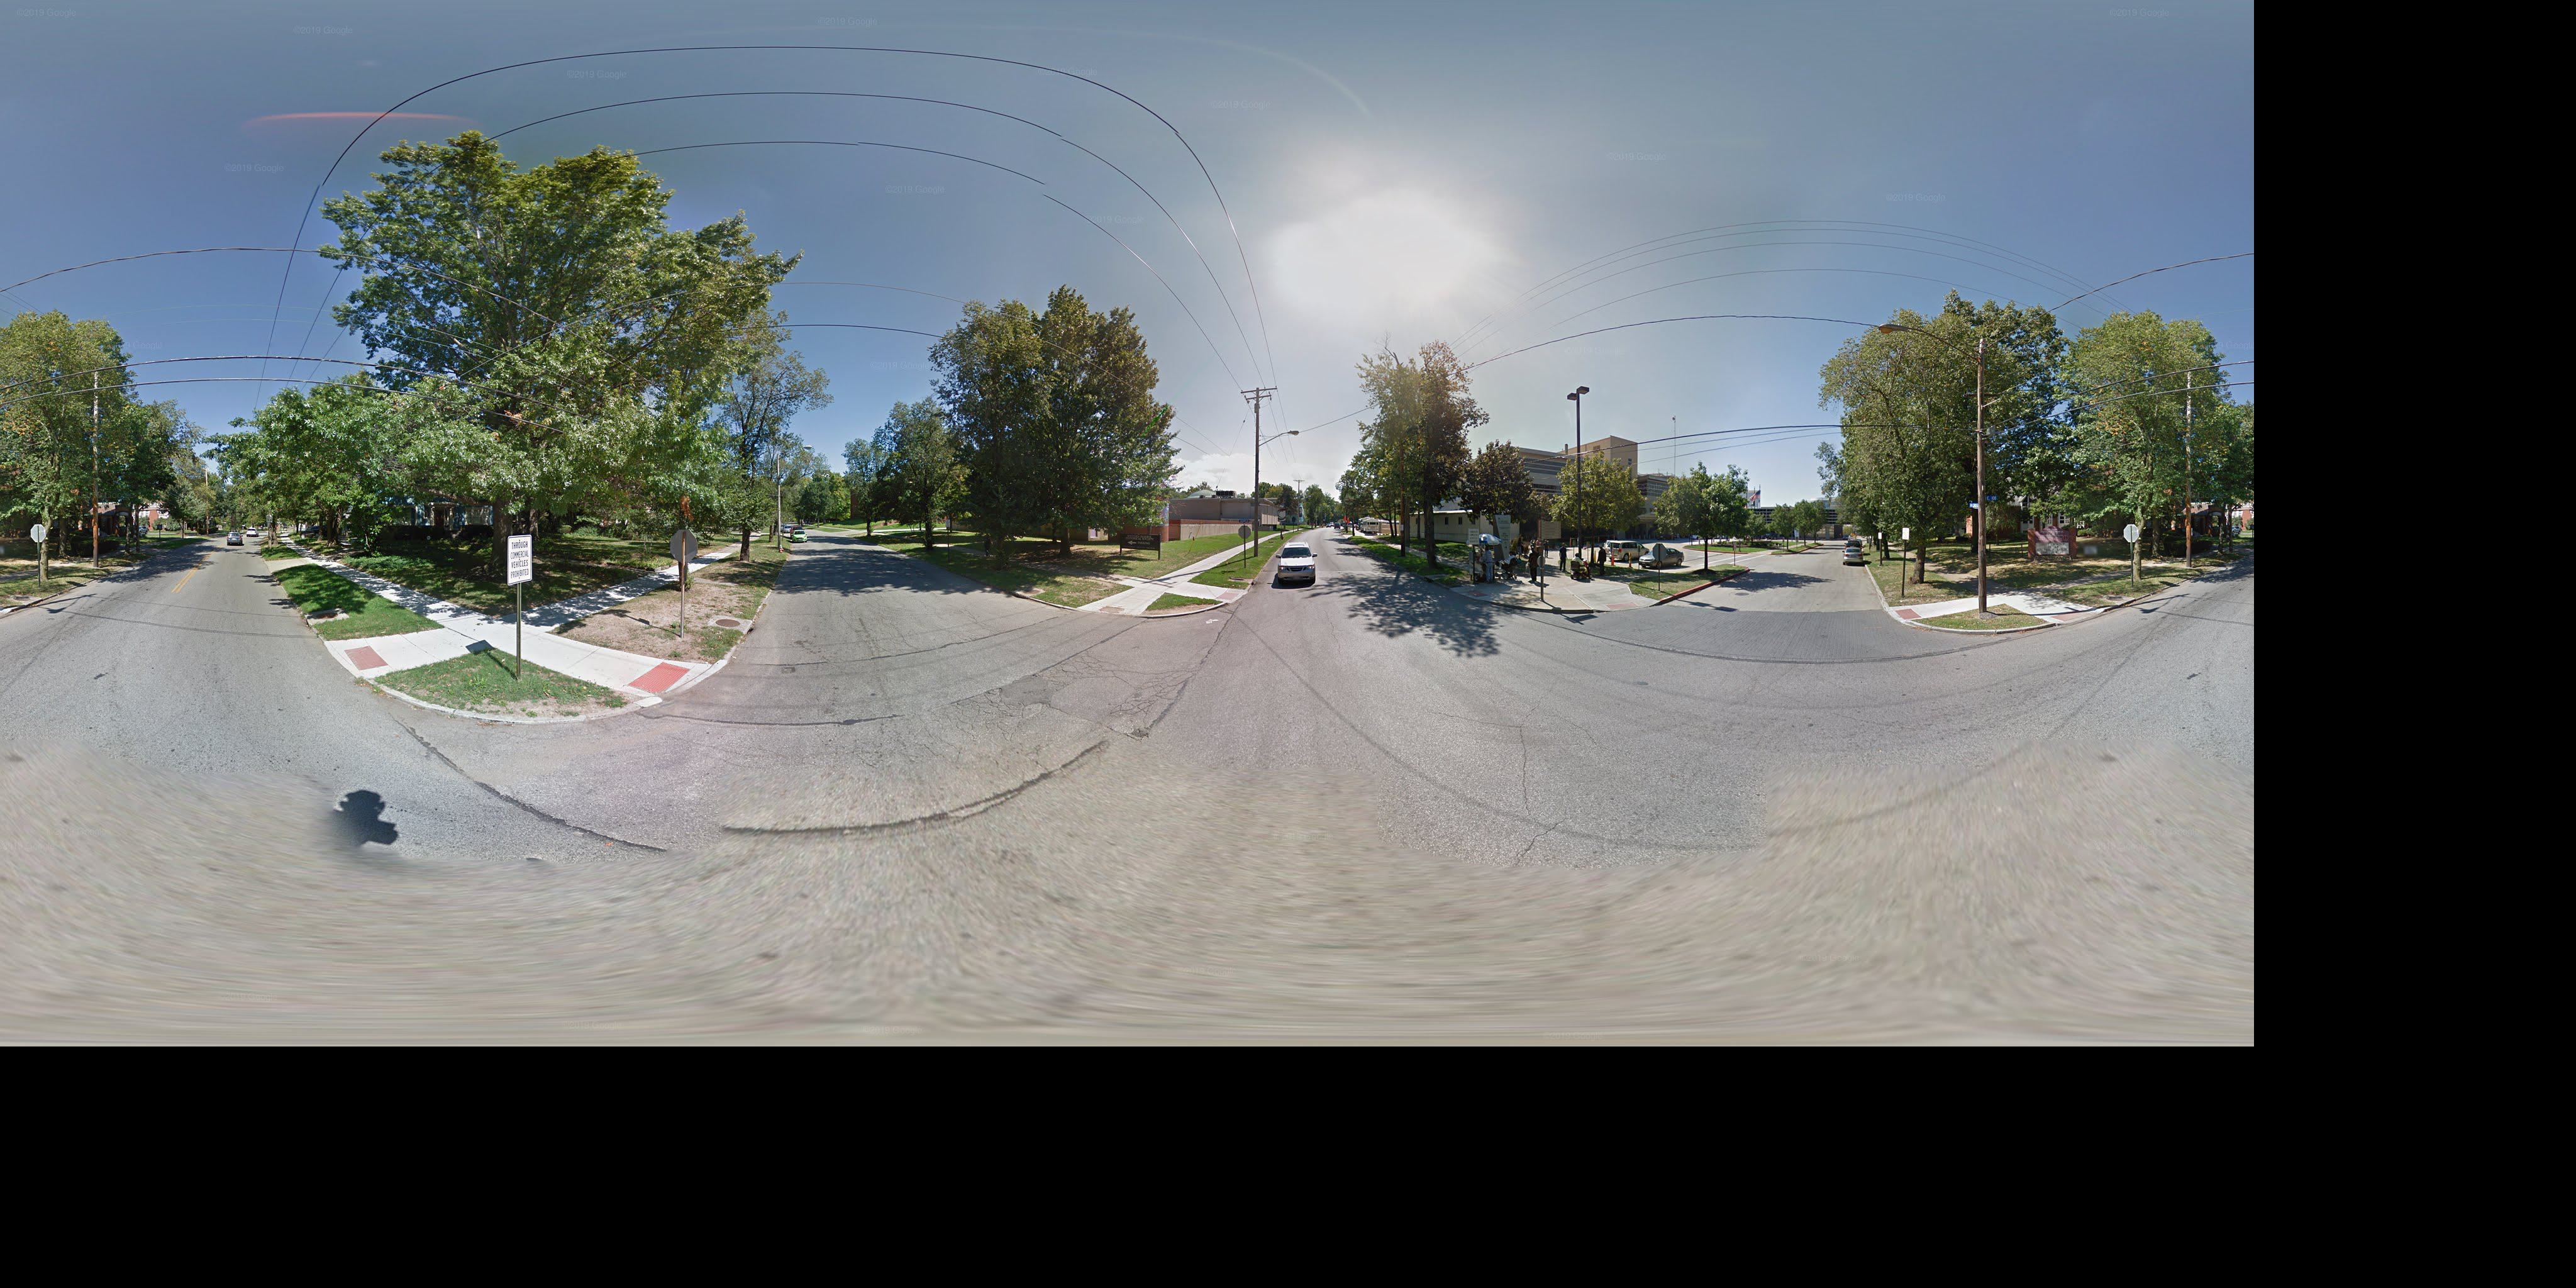Curb Ramp: (636, 646, 723, 716), (319, 632, 404, 680), (1589, 595, 1649, 618), (1456, 582, 1492, 605), (1212, 583, 1245, 606), (2054, 605, 2091, 624)
Irregular Ramp: (1086, 595, 1143, 624)
